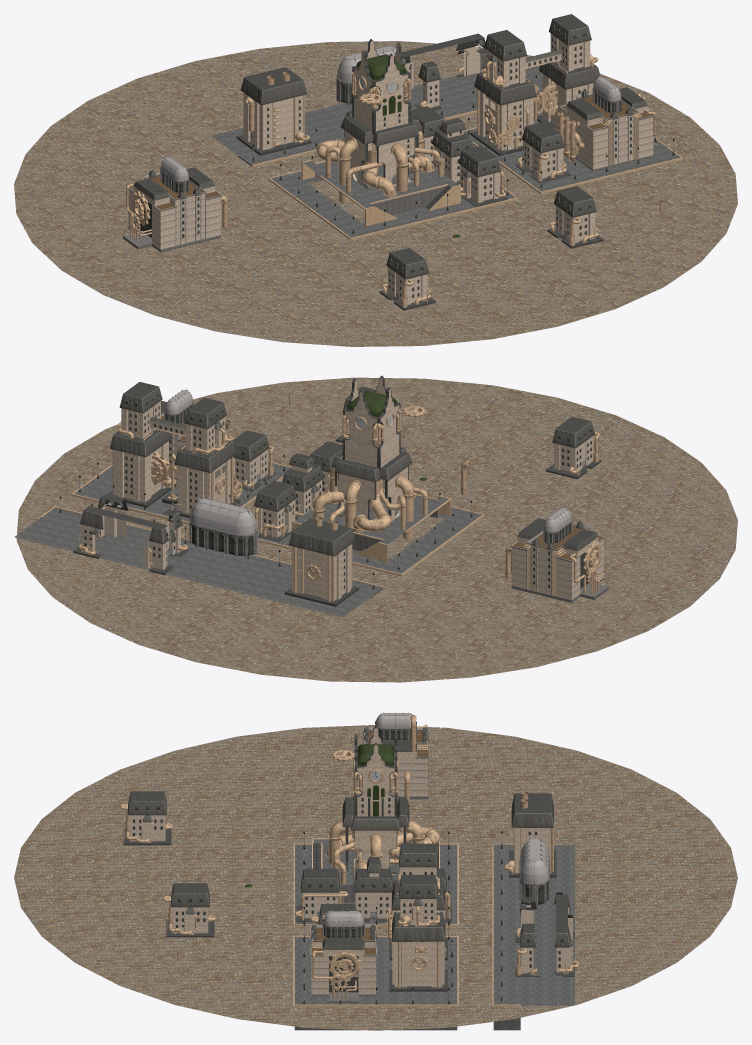
File: ActualWebsiteModel-v1.glb
The picture shows the model from 3 angles, top to bottom: view 1: azimuth 30°, elevation 25°; view 2: azimuth 150°, elevation 25°; view 3: azimuth 270°, elevation 25°; orthographic projection.
Parts seen in each view (by area): view 1: Circle.001, Plane.261; view 2: Circle.001, Plane.261; view 3: Circle.001, Plane.261.
Boxes of the visible parts, x1,y1,x2,y2 form: Circle.001: (14, 14, 737, 346); Plane.261: (160, 39, 621, 193); Circle.001: (14, 377, 737, 682); Plane.261: (164, 375, 572, 562); Circle.001: (14, 711, 737, 1030); Plane.261: (322, 711, 549, 938).
Size of the model in its own units: 160 by 44.88 by 160.
1 material, 1 textured.
